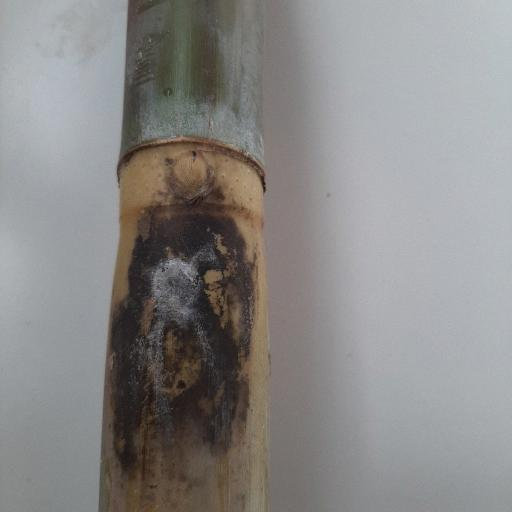Bud: (168, 149, 212, 200)
